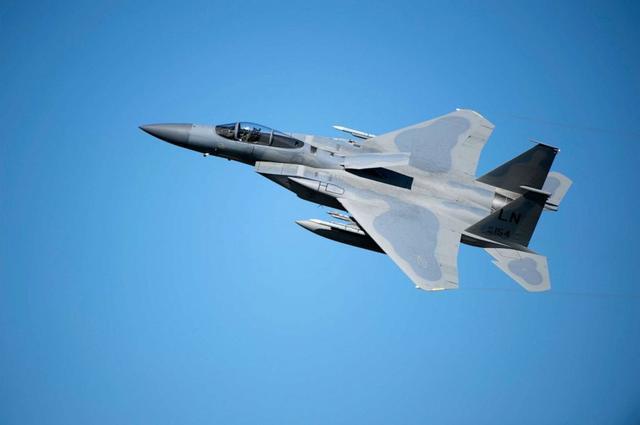airplane: (133, 104, 577, 291)
